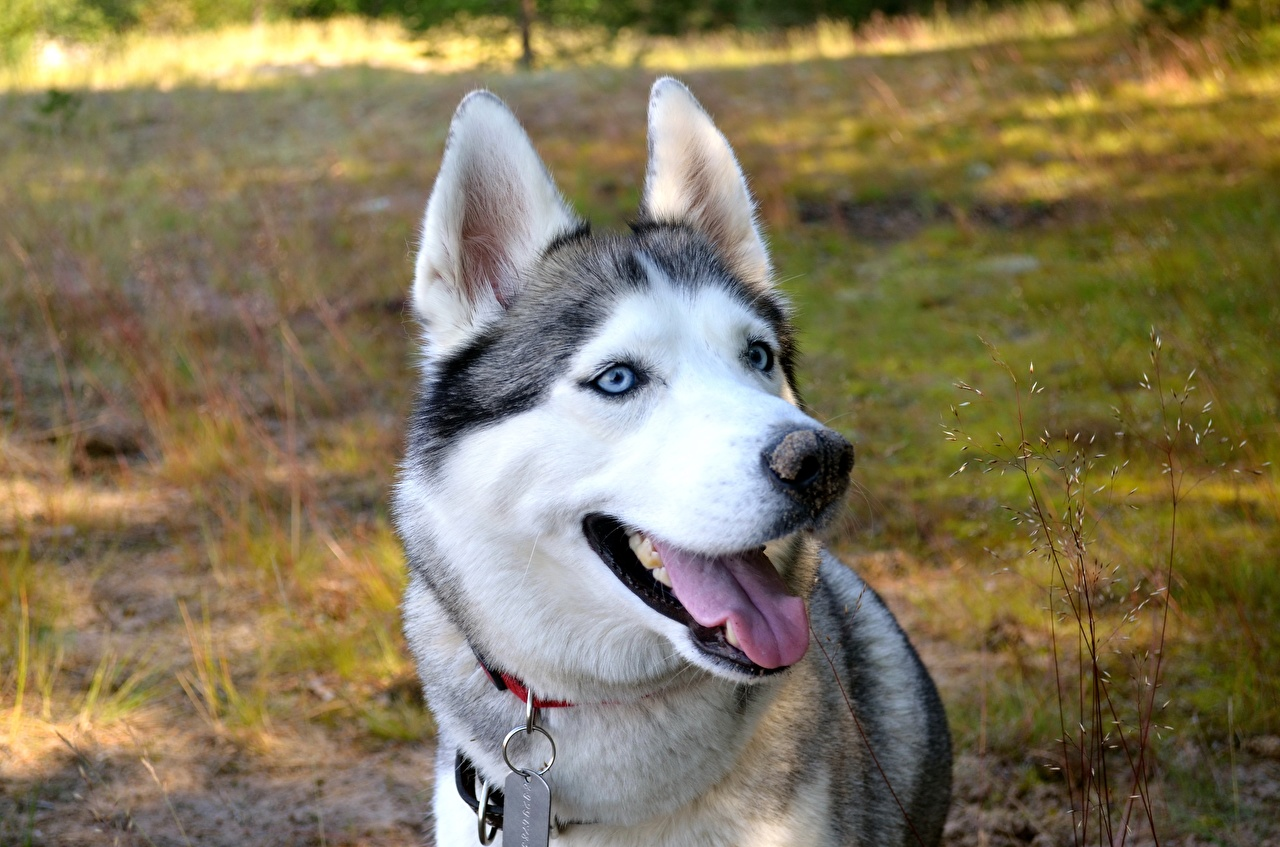husky: (348, 58, 925, 808)
